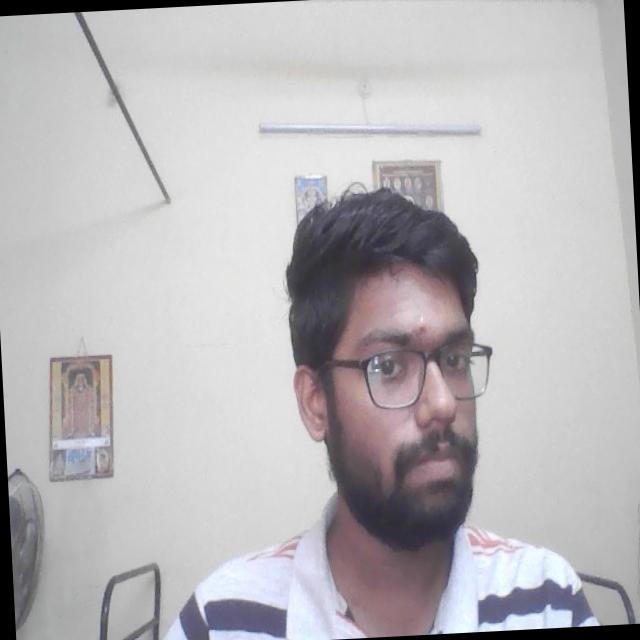Focused: (304, 266, 504, 528)
